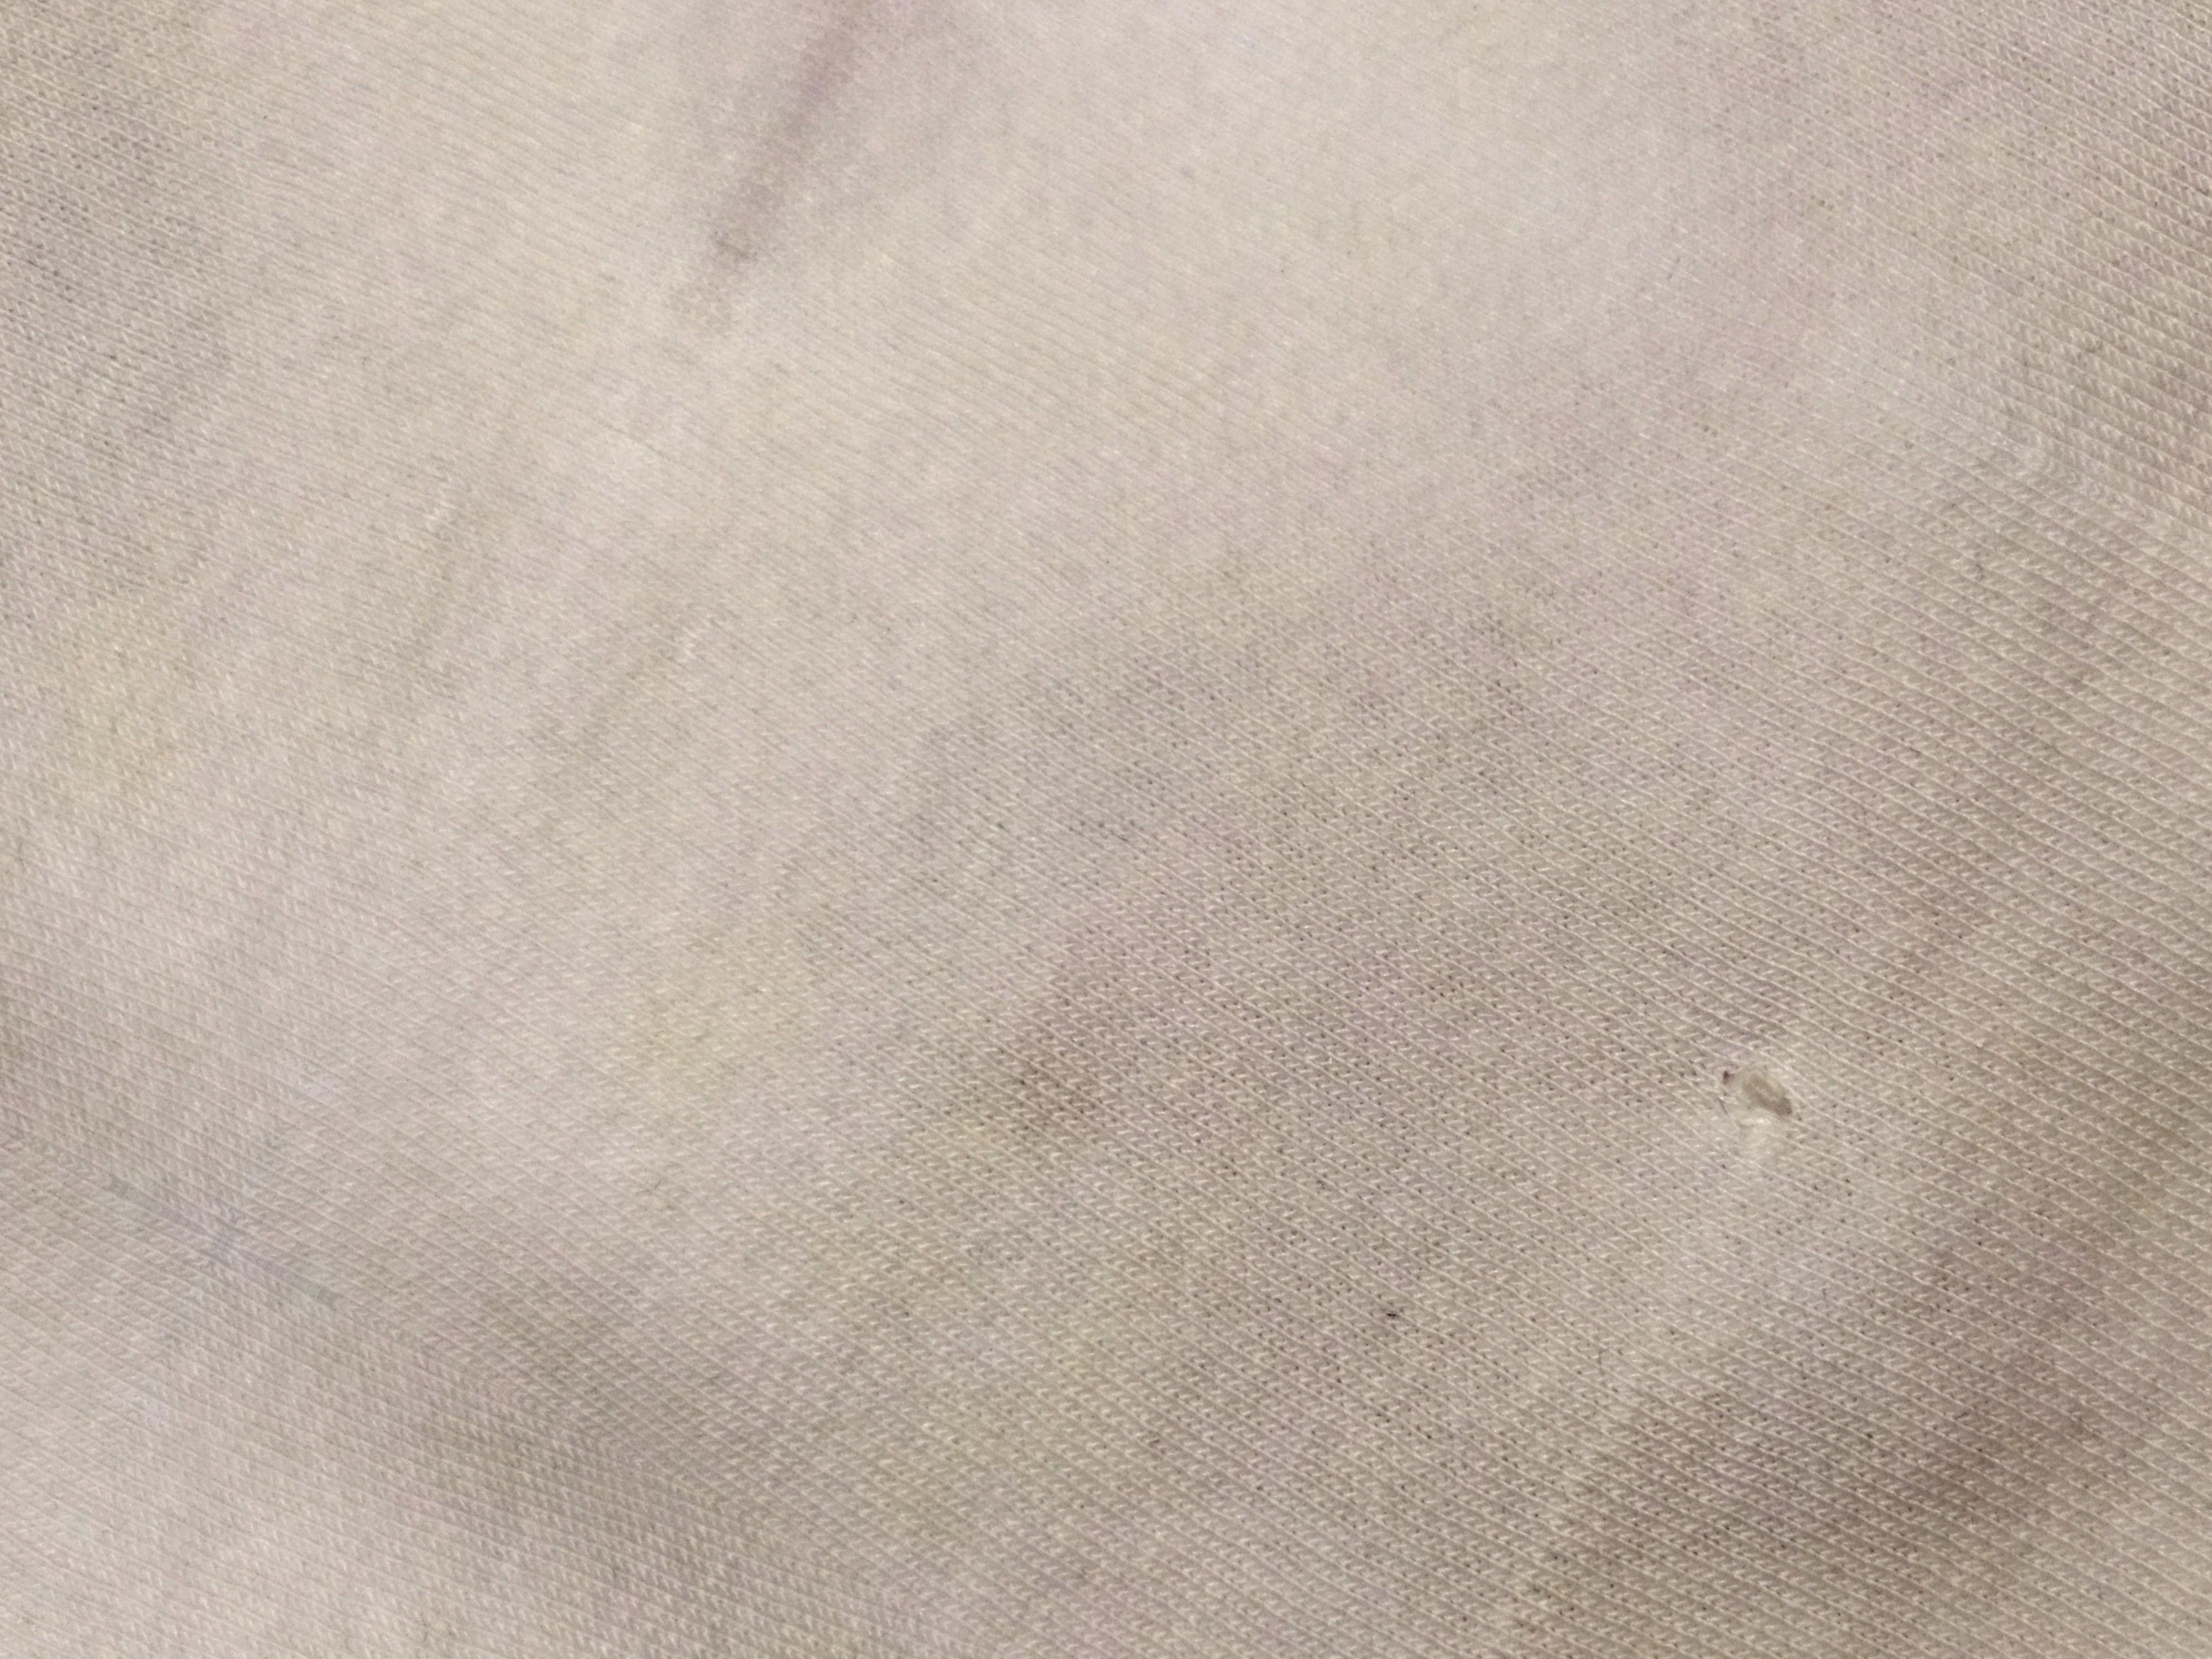knot: (1691, 1021, 1843, 1154)
